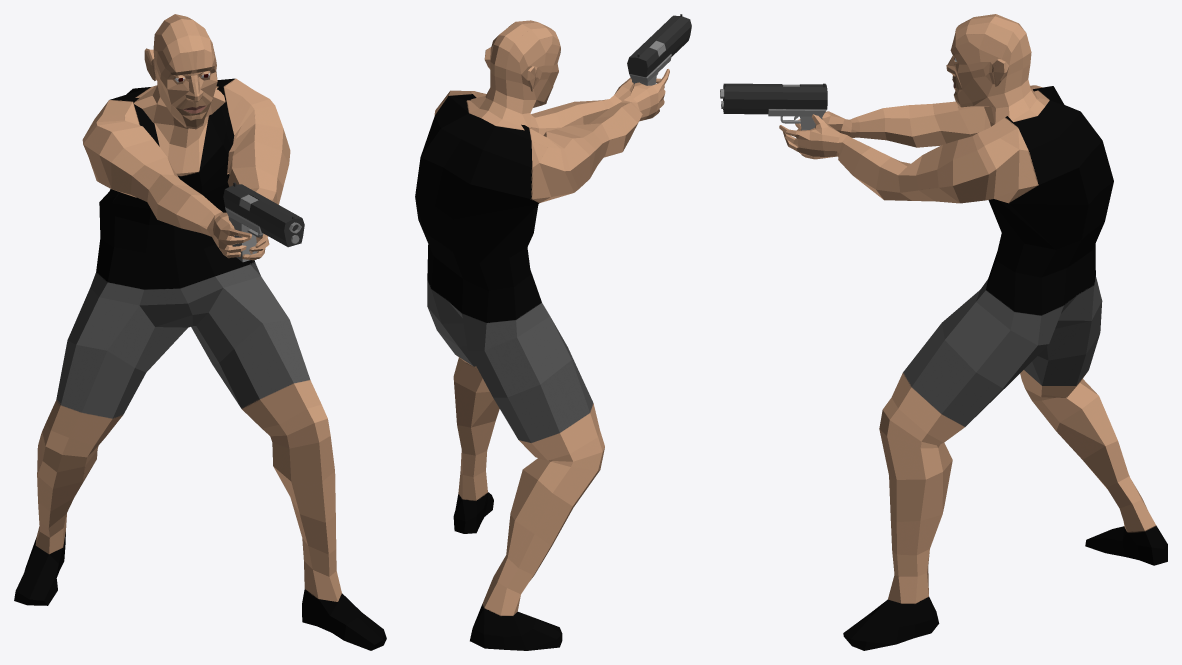
The model's file is PlayerShoot(20).obj.
3 views of the same model, side by side, from view 1: azimuth 30°, elevation 25°; view 2: azimuth 150°, elevation 25°; view 3: azimuth 270°, elevation 25° (orthographic). The views are drawn at different scales.
Visible parts, largest first — view 1: Plane002, Box003; view 2: Plane002, Box003; view 3: Plane002, Box003.
Boxes of the visible parts, x1,y1,x2,y2 form: Plane002: (14, 14, 386, 650); Box003: (223, 182, 304, 262); Plane002: (415, 20, 669, 650); Box003: (627, 14, 691, 85); Plane002: (779, 14, 1167, 650); Box003: (720, 83, 827, 152).
Size of the model in its own units: 717 by 1665 by 1182.
